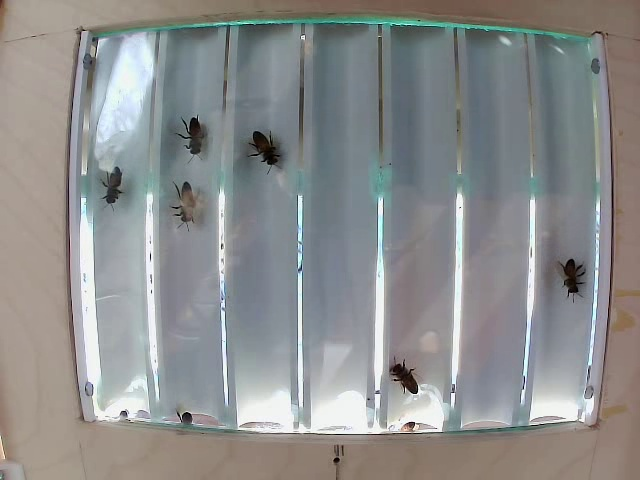bee: (249, 126, 290, 178), (561, 257, 595, 298), (93, 165, 130, 202), (167, 185, 199, 226), (182, 114, 210, 151), (393, 359, 417, 392)
